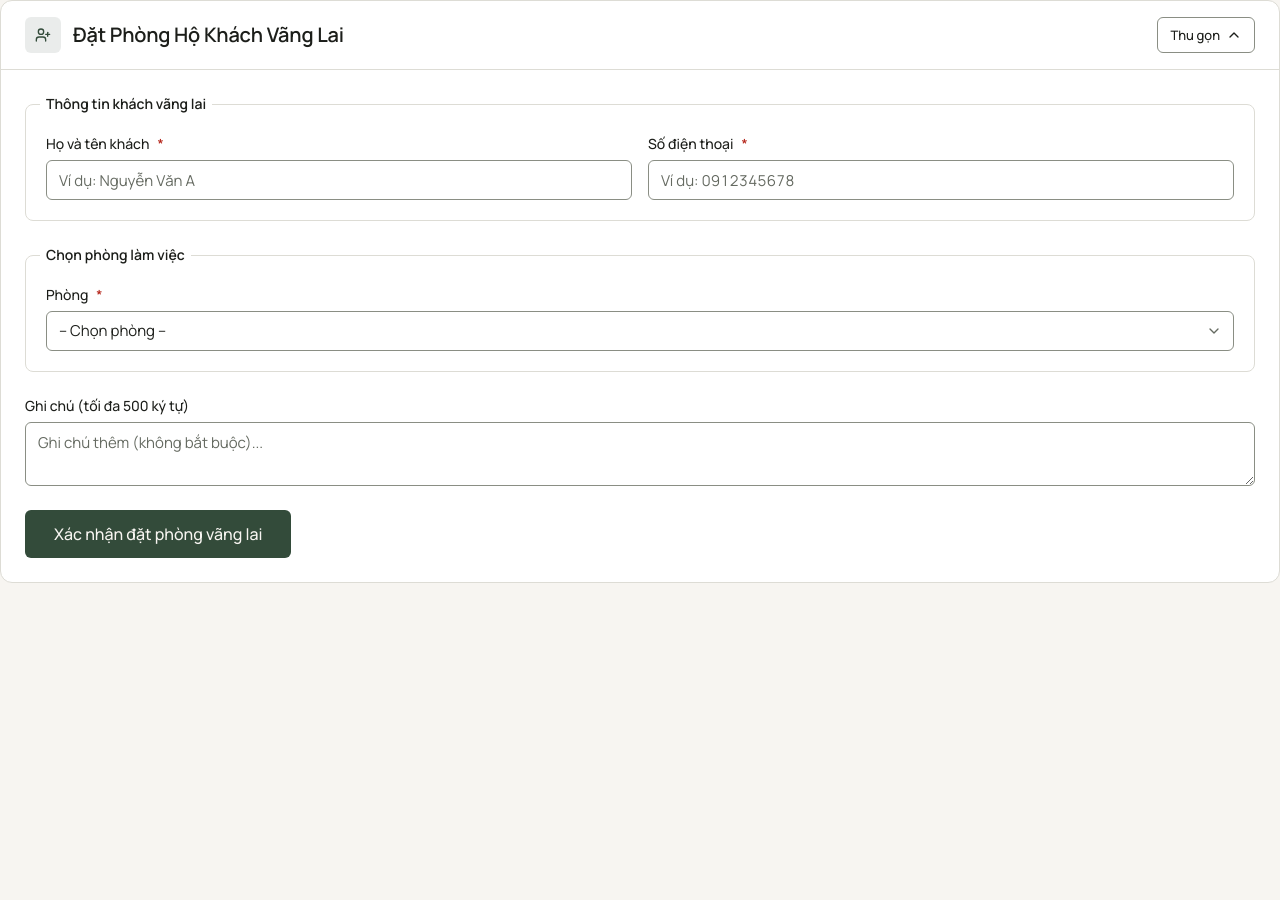
Test: AdminGuestBookingForm Component Tests › validates required fields and shows error messages when submitted empty
Click the button with test id "guest-submit-btn": click(158, 534) [25, 510, 291, 558]
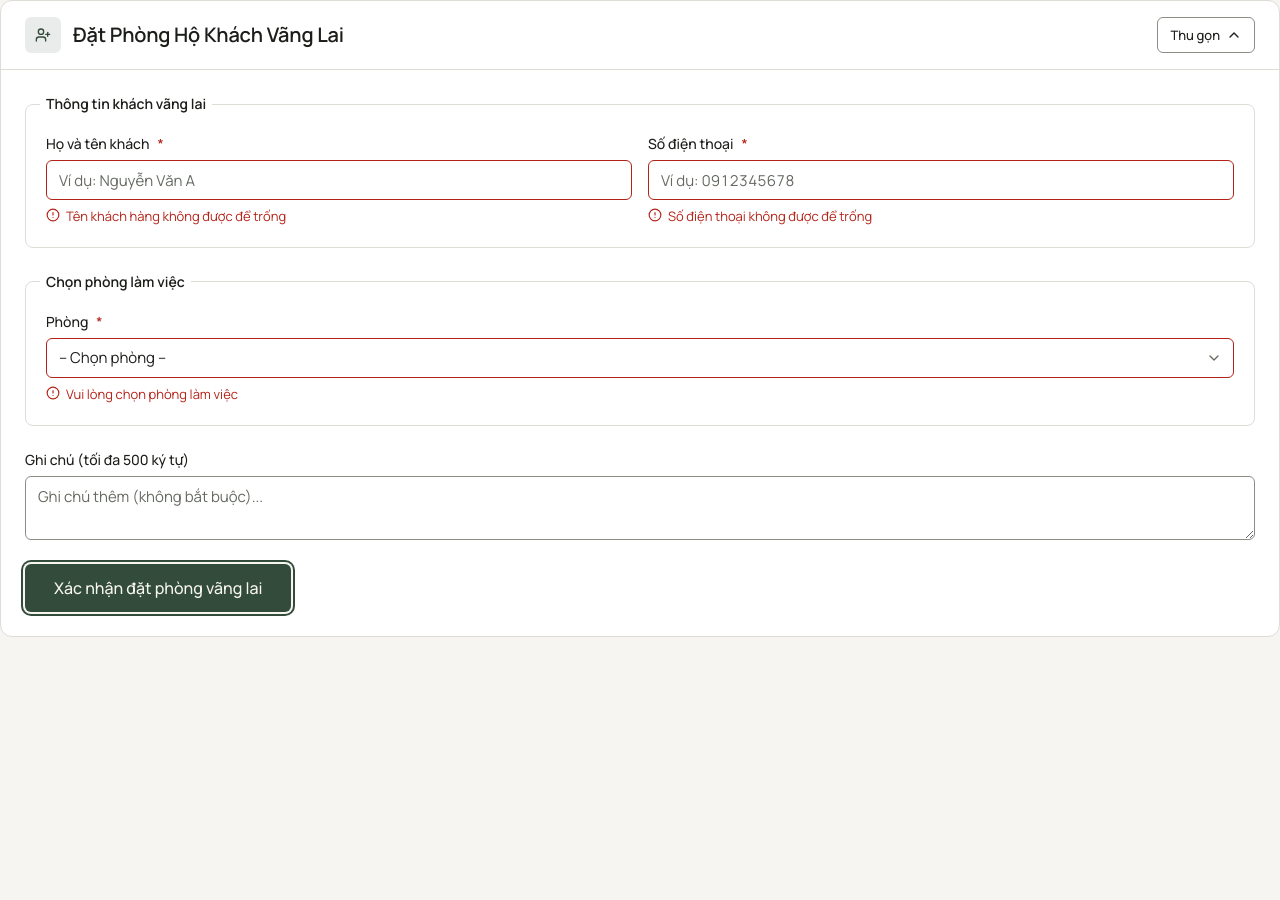
Check: the text "Tên khách hàng không được để trống" is shown, box [66, 206, 286, 227]
Check: the text "Số điện thoại không được để trống" is shown, box [668, 206, 872, 227]
Check: the text "Vui lòng chọn phòng làm việc" is shown, box [66, 384, 238, 405]
